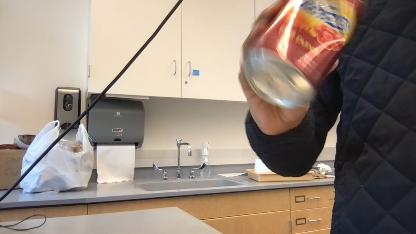Can: (245, 0, 363, 108)
